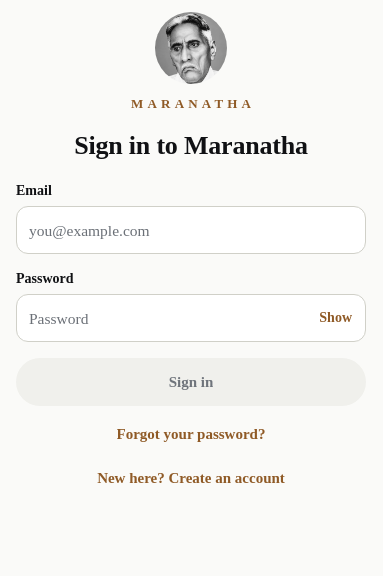
Test: when it does not work › outlines nothing for a failure that is about neither field
The image size is (383, 576).
Step 1. Type "member@example.com" into the field with test id "email-input" → coordinates (191, 230), box [16,206,366,254]
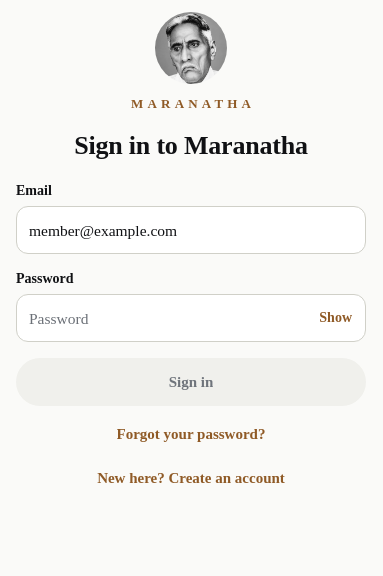
Step 2. Type "whatever" into the password field with test id "password-input" → coordinates (191, 318), box [16,294,366,342]
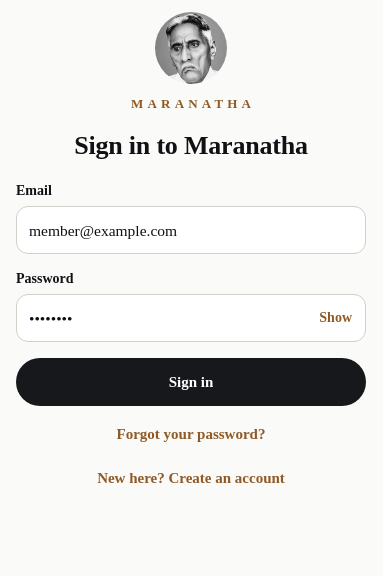
Step 3. Click the button with test id "email-submit-button" → coordinates (191, 382), box [16,358,366,406]
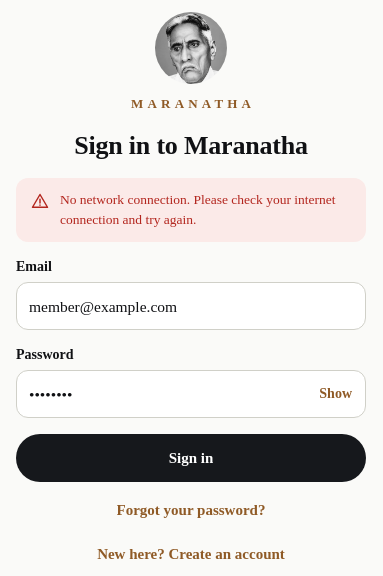
Now the element with test id "auth-error-banner" is shown, box [16,178,366,242]
